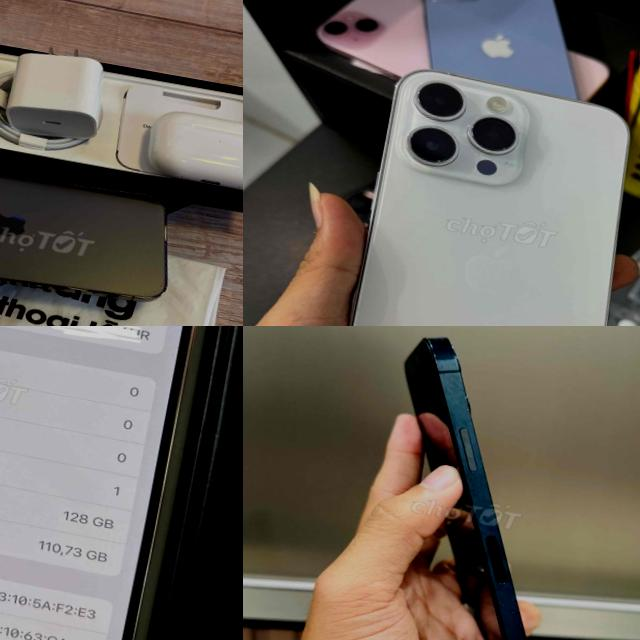gen_12_13: (353, 328, 603, 640), (0, 139, 195, 317)
gen_14: (319, 61, 640, 326)
gen_16: (0, 326, 195, 640)
